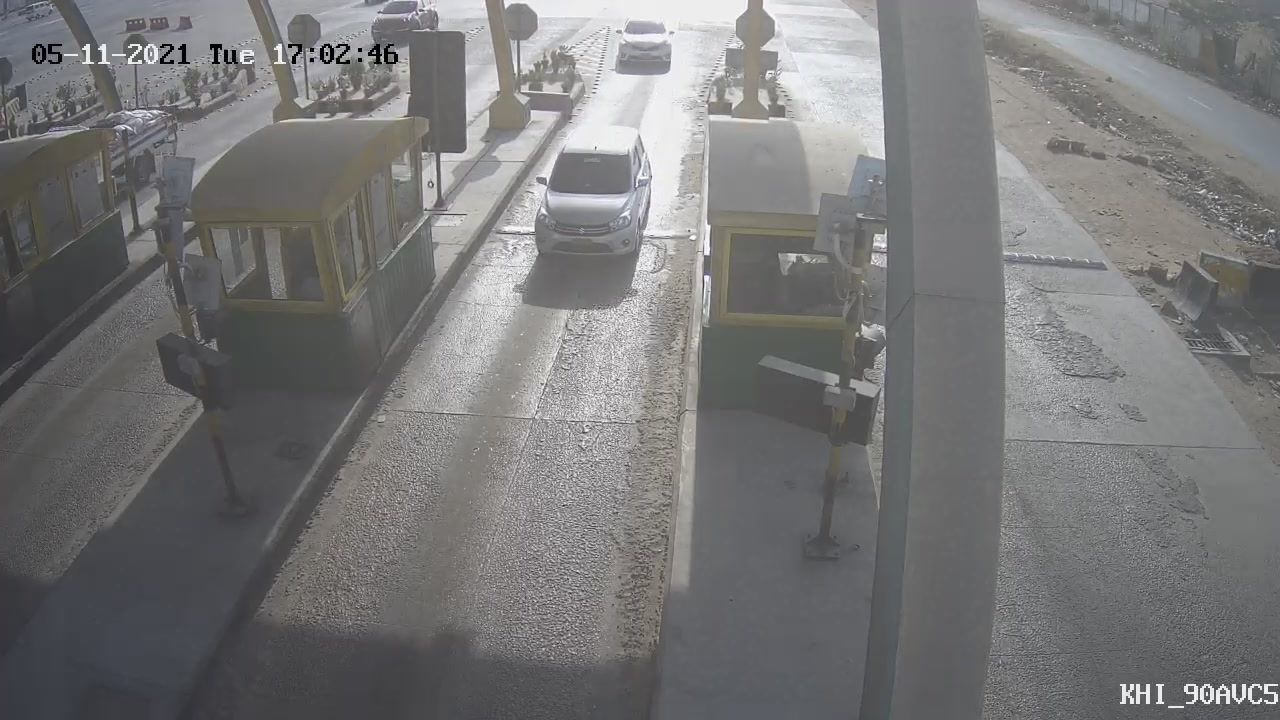F1: (505, 112, 674, 287)
